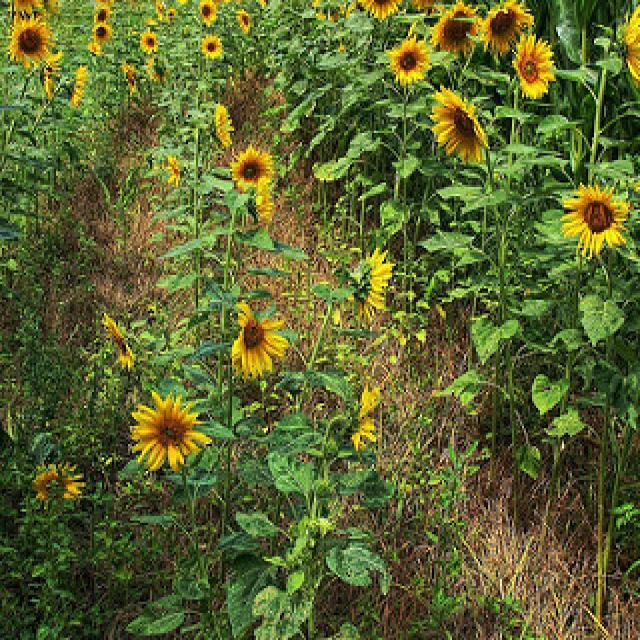sunflower: (128, 386, 216, 476), (556, 177, 632, 258), (427, 83, 495, 169), (226, 301, 292, 386), (338, 242, 400, 312), (344, 386, 394, 458), (512, 30, 558, 105), (97, 304, 143, 376), (479, 0, 535, 59), (5, 12, 55, 74), (33, 459, 85, 515), (430, 0, 482, 56), (228, 144, 276, 194), (386, 35, 434, 84), (616, 5, 640, 90), (64, 56, 92, 118), (203, 106, 237, 155), (353, 0, 409, 25), (145, 53, 175, 87), (312, 0, 346, 29), (200, 31, 228, 66), (190, 0, 226, 27), (90, 18, 114, 50), (134, 27, 162, 54), (234, 9, 258, 34), (91, 2, 115, 25)
